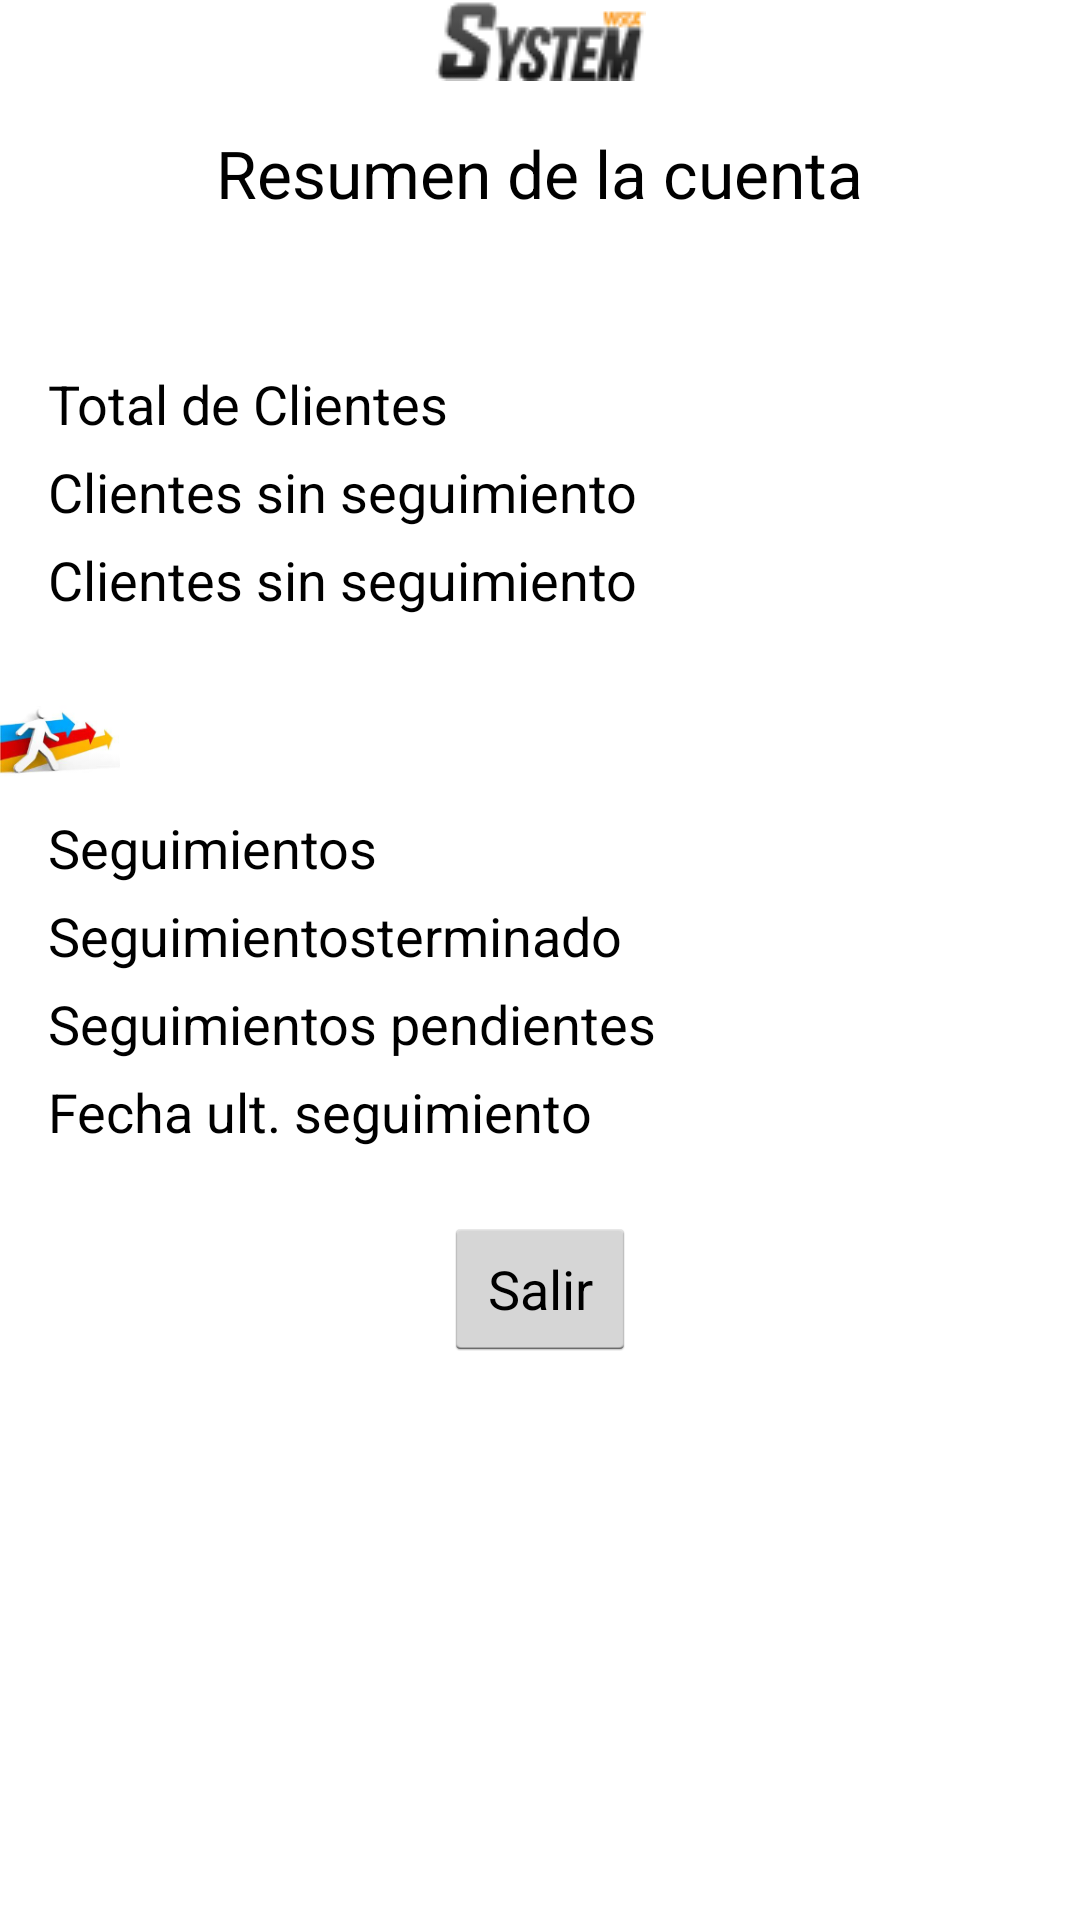

Locate icon controls on the screen. Image size 1080 × 1920, boxes as (left=x1, top=y1, right=x2, bottom=y2).
avtividades: (left=0, top=710, right=113, bottom=773)
